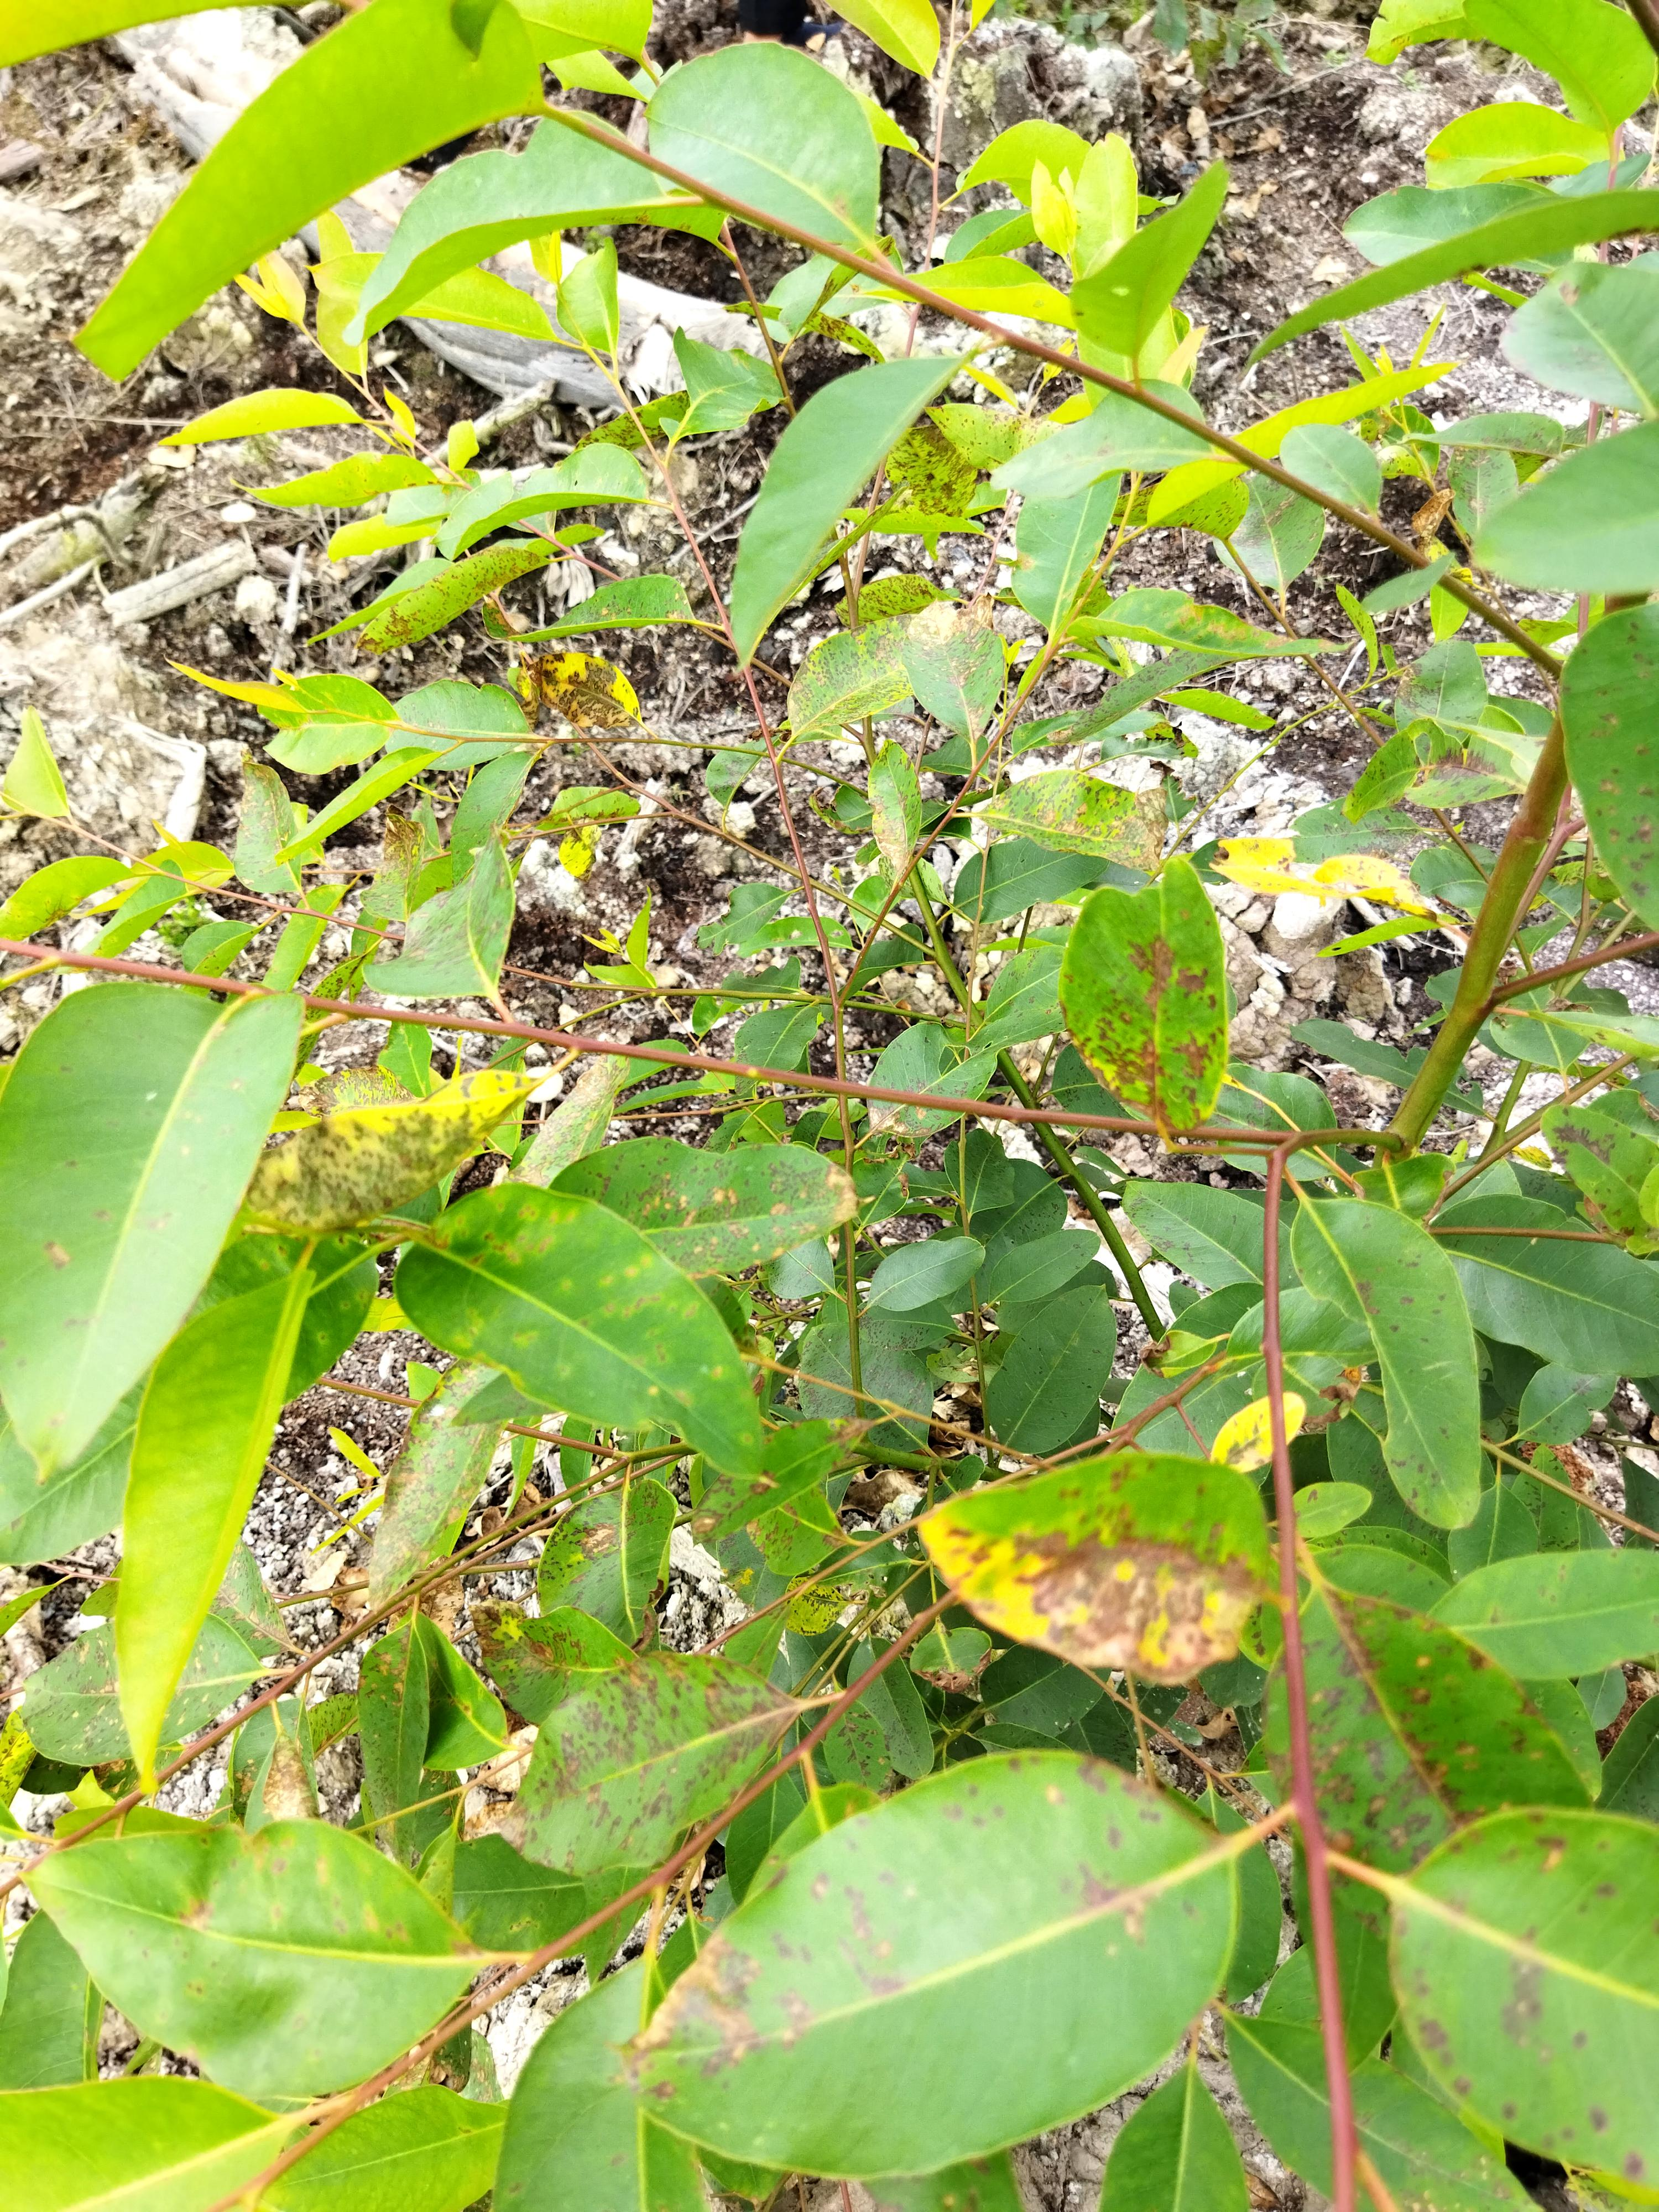Xanthomonas: (903, 1472, 1319, 1672), (1063, 853, 1227, 1137)
